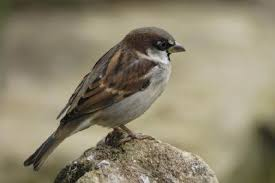hsparrow: (15, 23, 192, 172)
